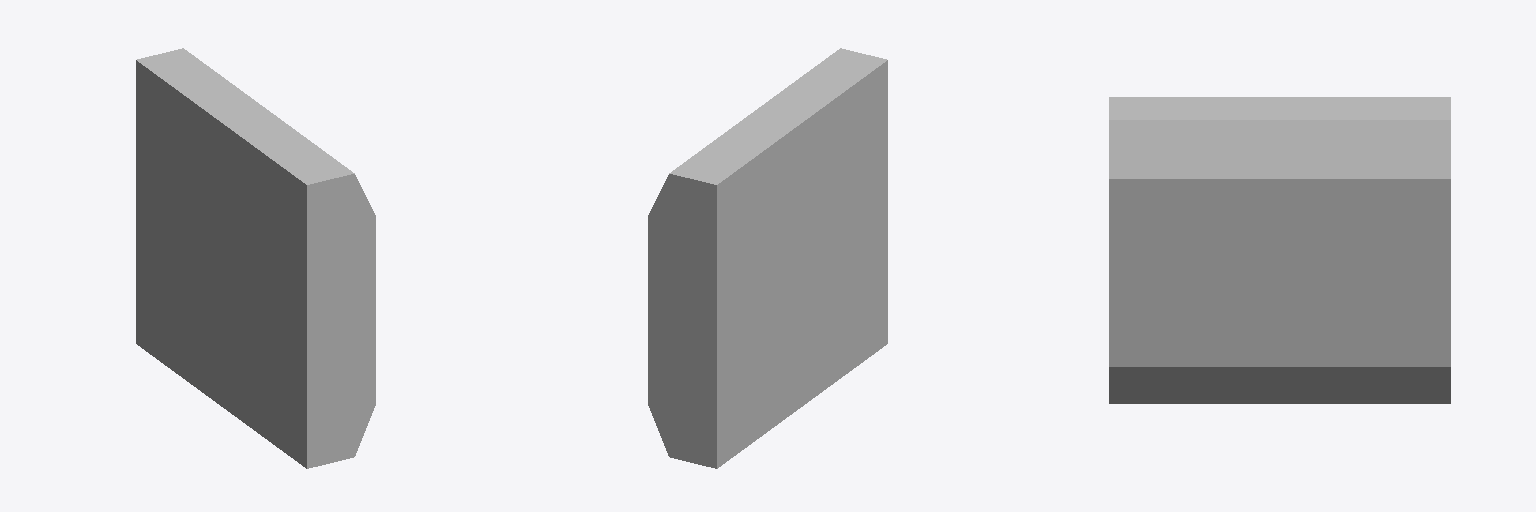
File: bellows_link_collision.obj
3 renders of one model, left to right at view 1: azimuth 30°, elevation 25°; view 2: azimuth 150°, elevation 25°; view 3: azimuth 270°, elevation 25°, orthographic.
Size of the model in its own units: 0.0764 by 0.2988 by 0.3268.